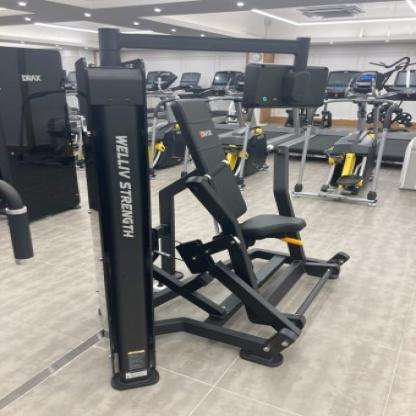Chest Press machine: (65, 48, 371, 394)
